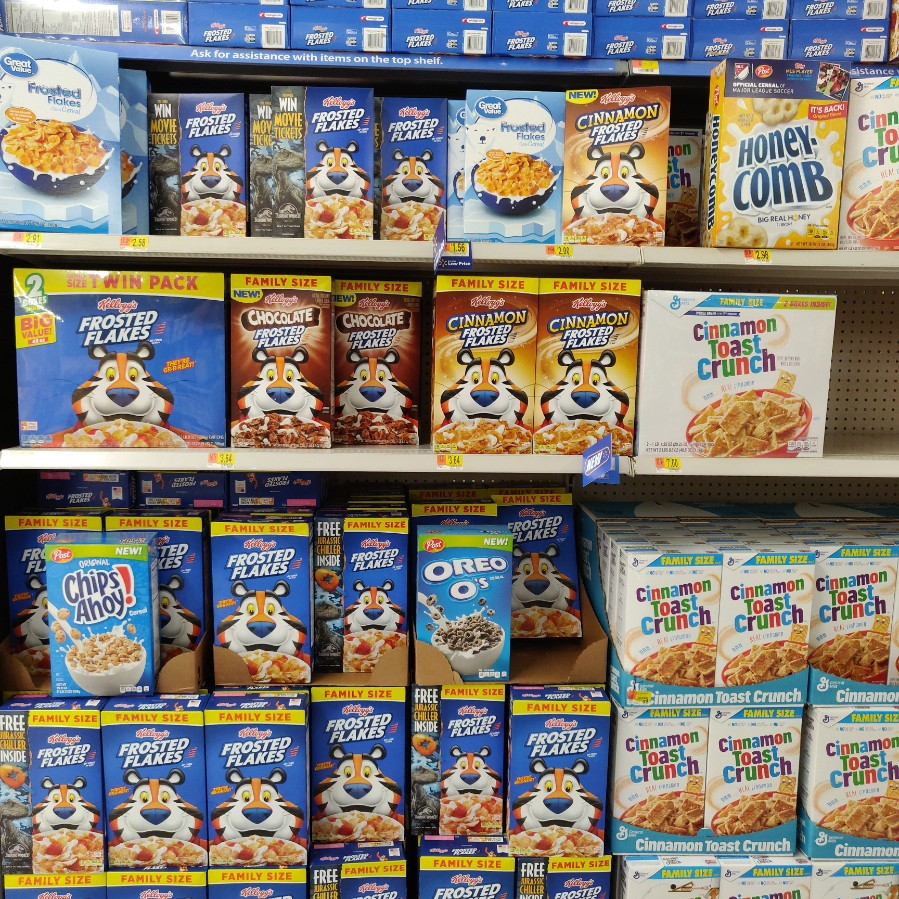Chips Ahoys-565717529: (41, 546, 163, 688)
Honey Comb- 009288857: (711, 56, 837, 251)
Oreo-563424384: (411, 528, 513, 693)
